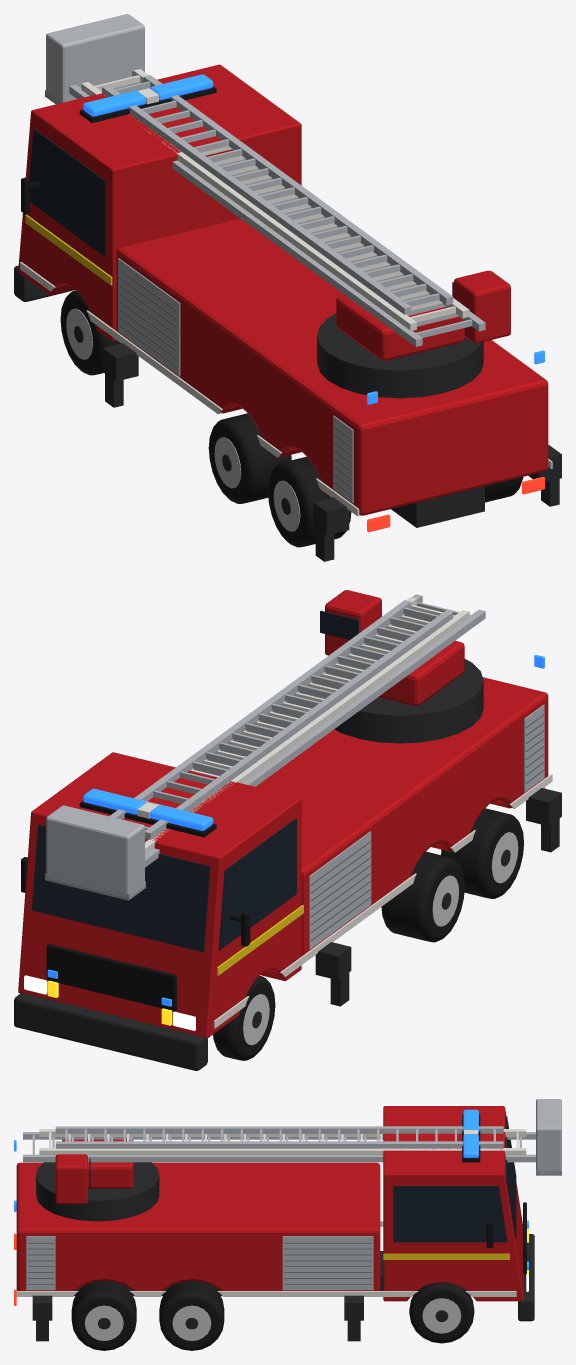
3 views of the same model, one above another, from view 1: azimuth 30°, elevation 25°; view 2: azimuth 150°, elevation 25°; view 3: azimuth 270°, elevation 25° (orthographic). The views are drawn at different scales.
Parts seen in each view (by area): view 1: nadgradnja, kabina, lestev.002, vrtljivka, lestev.001, kosara, okno, rolete, lestev, podstavek, guma1-1, upr_mesto (+15 smaller); view 2: nadgradnja, kabina, lestev.002, vetrobran, kosara, odbijac, vrtljivka, lestev.001, rolete, okno, maska, lestev (+17 smaller); view 3: nadgradnja, kabina, lestev.002, rolete, okno.001, lestev.001, lestev, vrtljivka, guma21, guma11, guma01, trak (+14 smaller).
Boxes of the visible parts, x1,y1,x2,y2 form: nadgradnja: [116, 218, 548, 515]; kabina: [18, 64, 301, 341]; lestev.002: [102, 75, 453, 314]; vrtljivka: [317, 313, 483, 398]; lestev.001: [81, 69, 469, 330]; kosara: [46, 14, 144, 103]; okno: [29, 129, 105, 256]; rolete: [118, 258, 353, 503]; lestev: [69, 70, 485, 346]; podstavek: [336, 295, 464, 360]; guma1-1: [208, 413, 291, 503]; upr_mesto: [454, 270, 510, 343]; nadgradnja: [256, 677, 548, 955]; kabina: [18, 752, 301, 1038]; lestev.002: [109, 600, 453, 839]; vetrobran: [32, 824, 210, 952]; kosara: [46, 805, 144, 897]; odbijac: [14, 993, 207, 1070]; vrtljivka: [334, 659, 483, 743]; lestev.001: [145, 597, 469, 854]; rolete: [309, 704, 544, 949]; okno: [218, 818, 296, 950]; maska: [46, 944, 176, 1011]; lestev: [145, 594, 485, 867]; nadgradnja: [16, 1162, 380, 1290]; kabina: [383, 1106, 523, 1301]; lestev.002: [55, 1126, 503, 1148]; rolete: [26, 1236, 373, 1290]; okno.001: [393, 1186, 507, 1242]; lestev.001: [39, 1129, 526, 1155]; lestev: [23, 1132, 535, 1162]; vrtljivka: [36, 1162, 159, 1221]; guma21: [71, 1280, 136, 1350]; guma11: [159, 1280, 224, 1350]; guma01: [409, 1282, 474, 1343]; trak: [16, 1221, 516, 1296].
Bounding box in the file's own units: 3.1 × 3.4 × 8.44.
